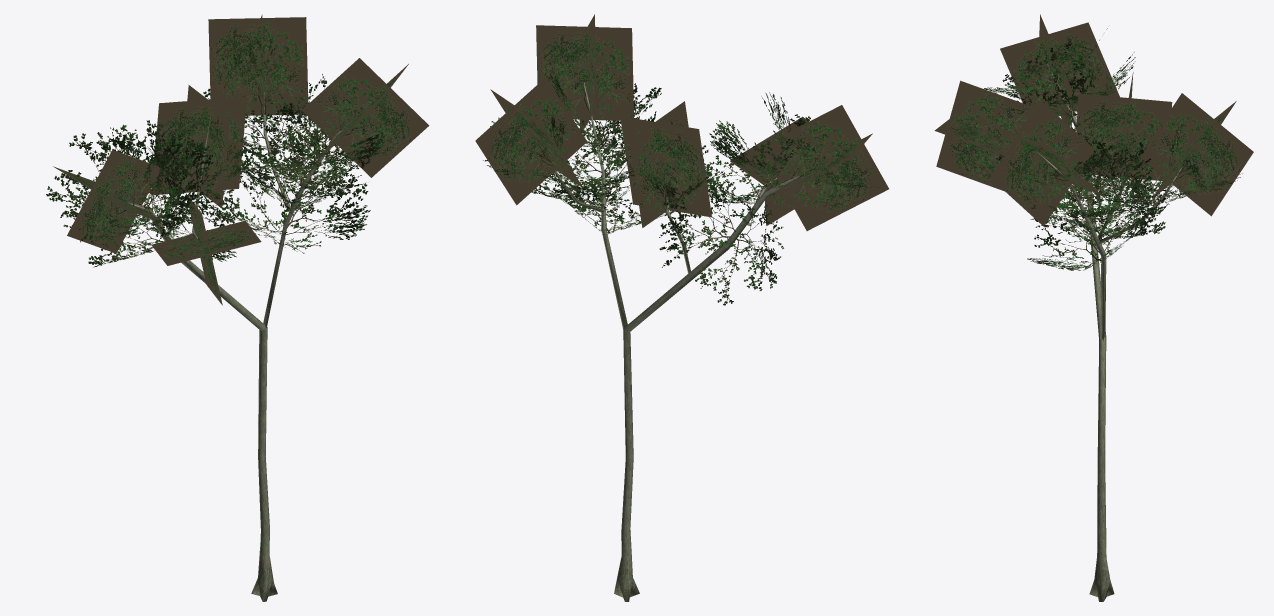
File: nboo_decd_cambylictustree_a1_l0.fbx
3 renders of one model, left to right at view 1: azimuth 30°, elevation 25°; view 2: azimuth 150°, elevation 25°; view 3: azimuth 270°, elevation 25°, orthographic. The views are drawn at different scales.
Visible parts, largest first — view 1: mesh_node; view 2: mesh_node; view 3: mesh_node.
Boxes of the visible parts, x1,y1,x2,y2 form: mesh_node: (46,14,429,601); mesh_node: (475,14,888,601); mesh_node: (934,14,1253,601).
Bounding box in the file's own units: 27.46 × 38.39 × 21.52.
